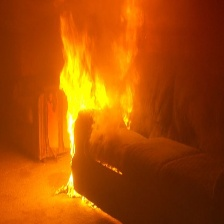fire: (56, 10, 140, 198)
